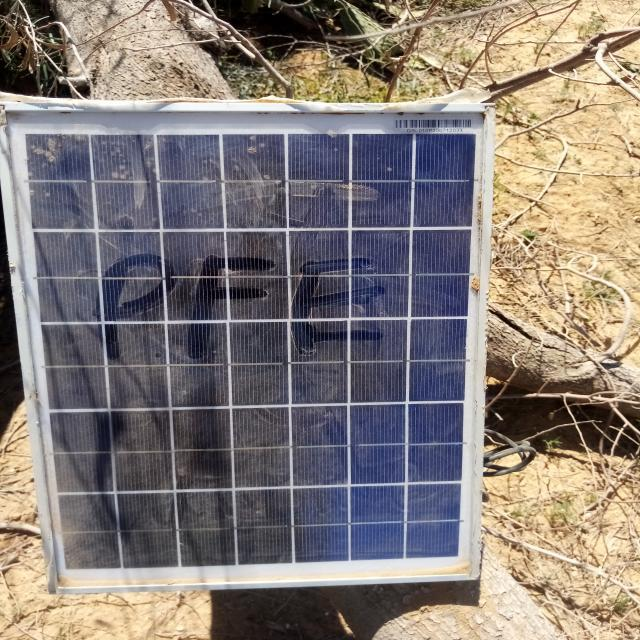faulty: (3, 108, 491, 591)
